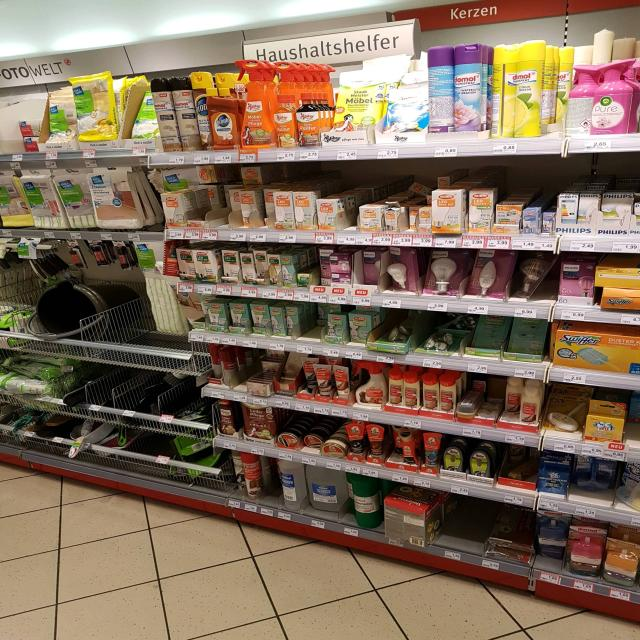empty: (425, 491, 496, 553)
